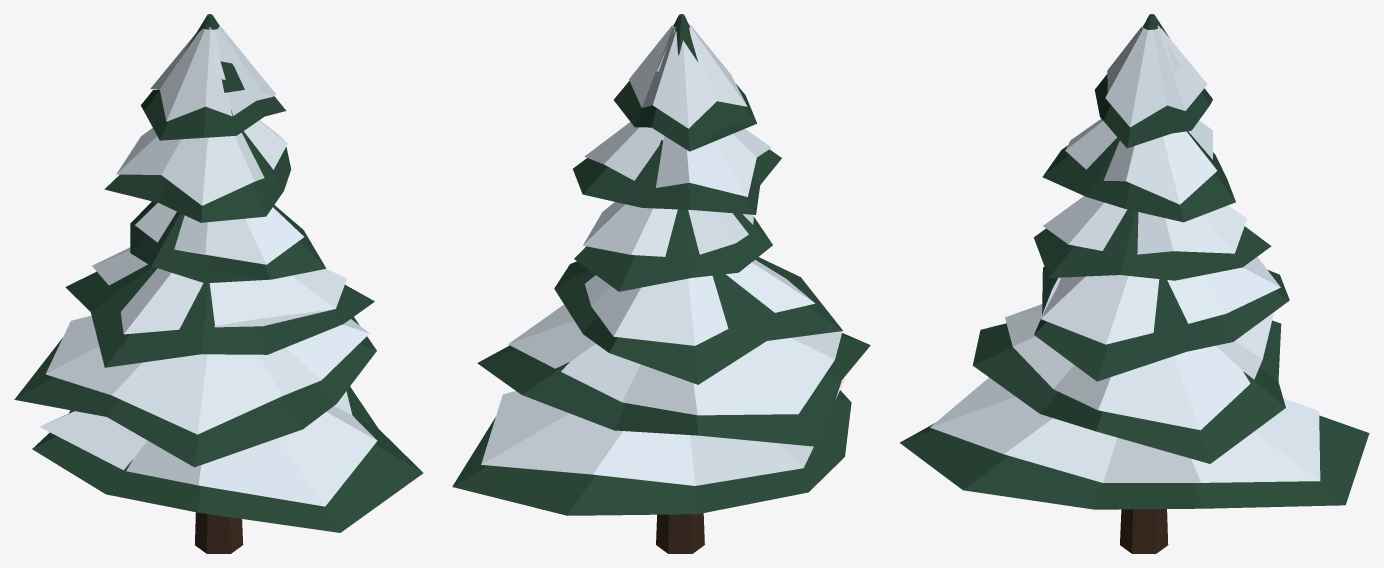
File: Hut_Pine_4_0_-2.fbx
3 views of the same model, side by side, from view 1: azimuth 30°, elevation 25°; view 2: azimuth 150°, elevation 25°; view 3: azimuth 270°, elevation 25° (orthographic).
Visible parts, largest first — view 1: Hut_Pine_4_0_-2; view 2: Hut_Pine_4_0_-2; view 3: Hut_Pine_4_0_-2.
Boxes of the visible parts, box(x1,y1,x2,y2) form: Hut_Pine_4_0_-2: box(14, 14, 423, 553); Hut_Pine_4_0_-2: box(452, 14, 870, 553); Hut_Pine_4_0_-2: box(900, 14, 1369, 553).
Bounding box in the file's own units: 421 × 626 × 506.
